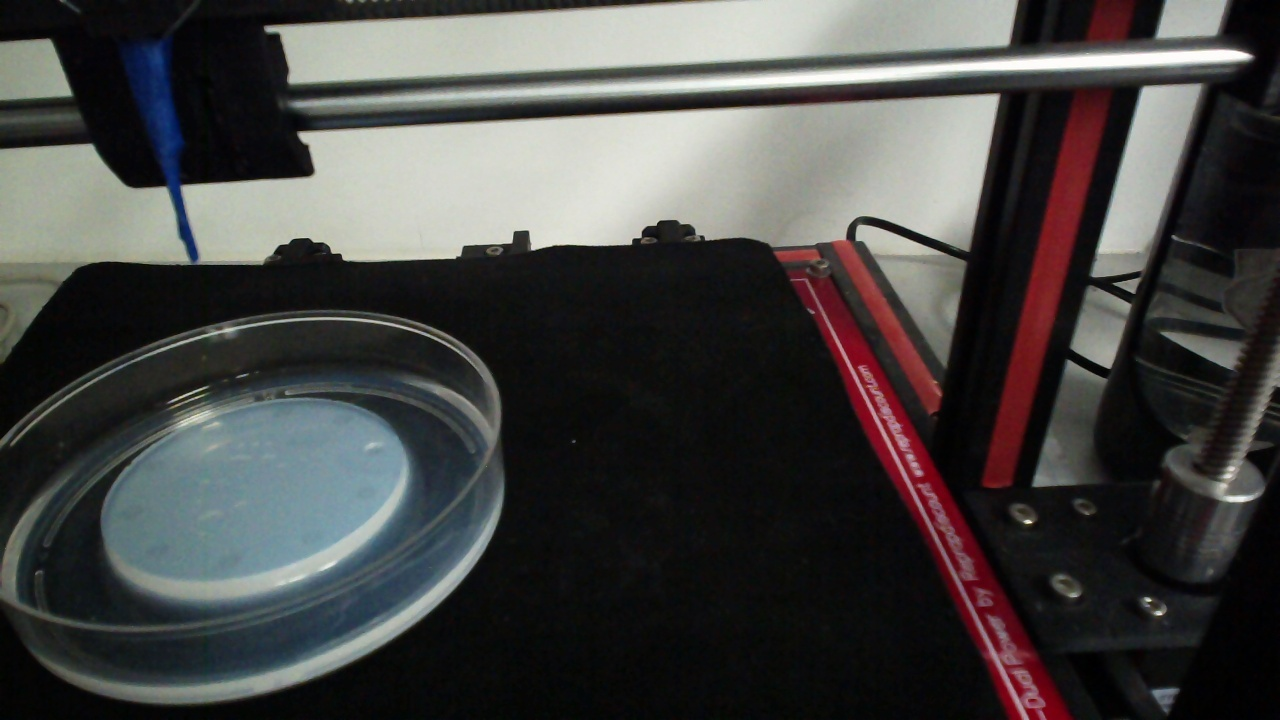groove: (211, 547, 244, 573), (140, 540, 171, 565), (297, 525, 326, 548), (117, 501, 145, 524), (199, 419, 225, 440), (352, 483, 380, 501), (143, 453, 170, 471), (361, 440, 386, 459), (328, 410, 355, 427), (272, 404, 293, 421)
needle: (127, 45, 198, 264)
